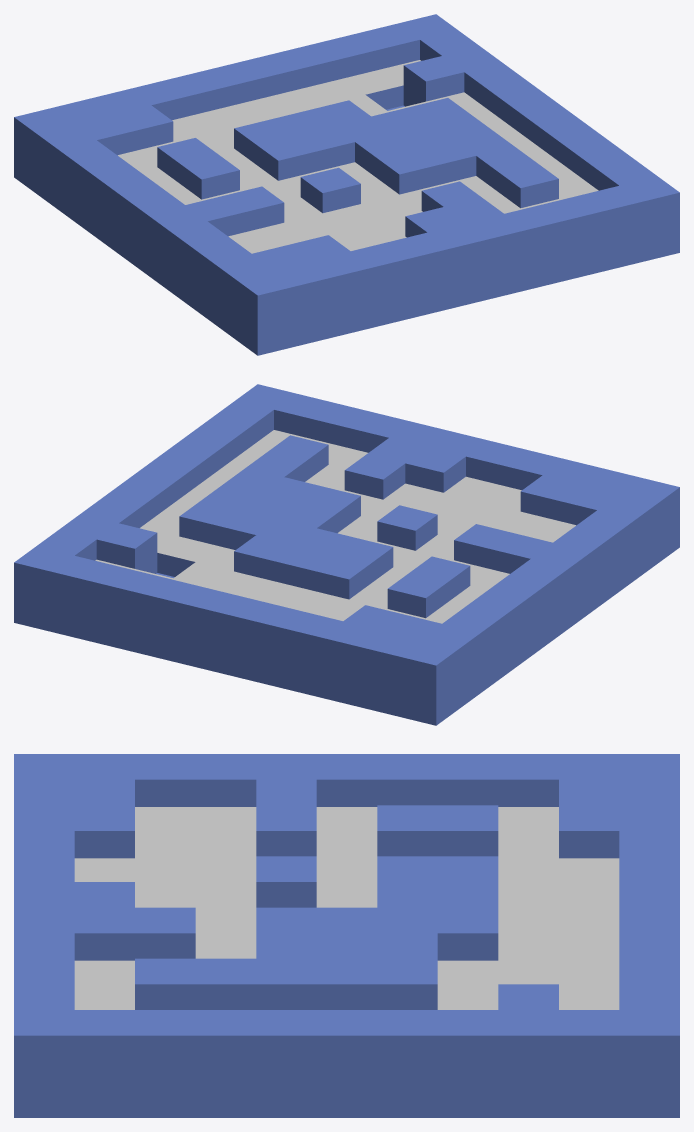
The model's file is 033_platform.fbx.
3 views of the same model, one above another, from view 1: azimuth 30°, elevation 25°; view 2: azimuth 150°, elevation 25°; view 3: azimuth 270°, elevation 25° (orthographic). The views are drawn at different scales.
Visible parts, largest first — view 1: Cube; view 2: Cube; view 3: Cube.
Boxes of the visible parts, x1,y1,x2,y2 form: Cube: (14,14,679,355); Cube: (14,384,679,725); Cube: (14,754,679,1117).
Size of the model in its own units: 1100 by 150 by 1100.
